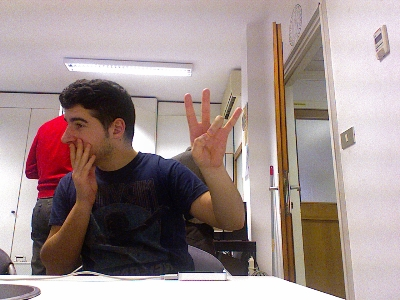观音: (182, 87, 243, 170)
